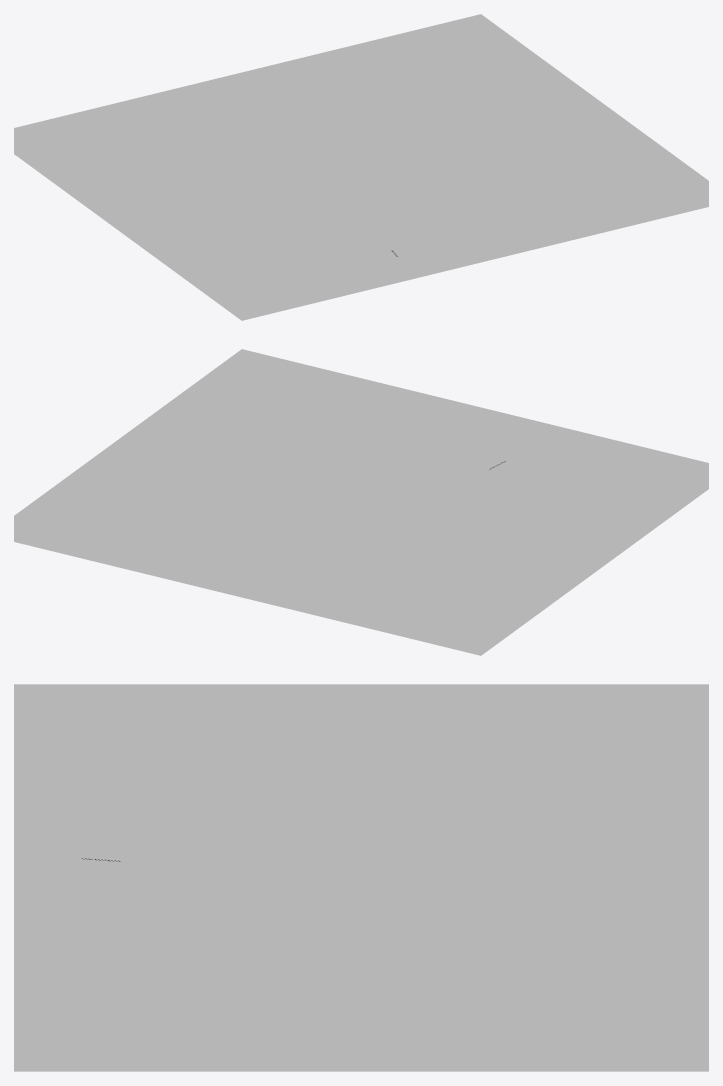
The model's file is 2022_march_open_ccw.dae.
The picture shows the model from 3 angles, top to bottom: view 1: azimuth 30°, elevation 25°; view 2: azimuth 150°, elevation 25°; view 3: azimuth 270°, elevation 25°; orthographic projection. The views are drawn at different scales.
Parts seen in each view (by area): view 1: field, wall, road, il, ol, cl; view 2: field, wall, road, il, ol, cl; view 3: field, wall, road, ol, il, cl.
Boxes of the visible parts, x1,y1,x2,y2 form: field: (41, 40, 681, 294); wall: (14, 14, 708, 320); road: (137, 73, 556, 277); il: (164, 84, 529, 265); ol: (135, 72, 558, 277); cl: (150, 79, 543, 271); field: (41, 375, 681, 629); wall: (14, 349, 708, 655); road: (92, 425, 613, 591); il: (118, 436, 587, 579); ol: (89, 424, 615, 591); cl: (104, 430, 600, 585); field: (14, 724, 708, 1031); wall: (14, 684, 708, 1071); road: (50, 739, 672, 1031); ol: (47, 738, 675, 1031); il: (90, 756, 632, 1031); cl: (70, 747, 652, 1031).
Size of the model in its own units: 18.78 by 15.87 by 1.
